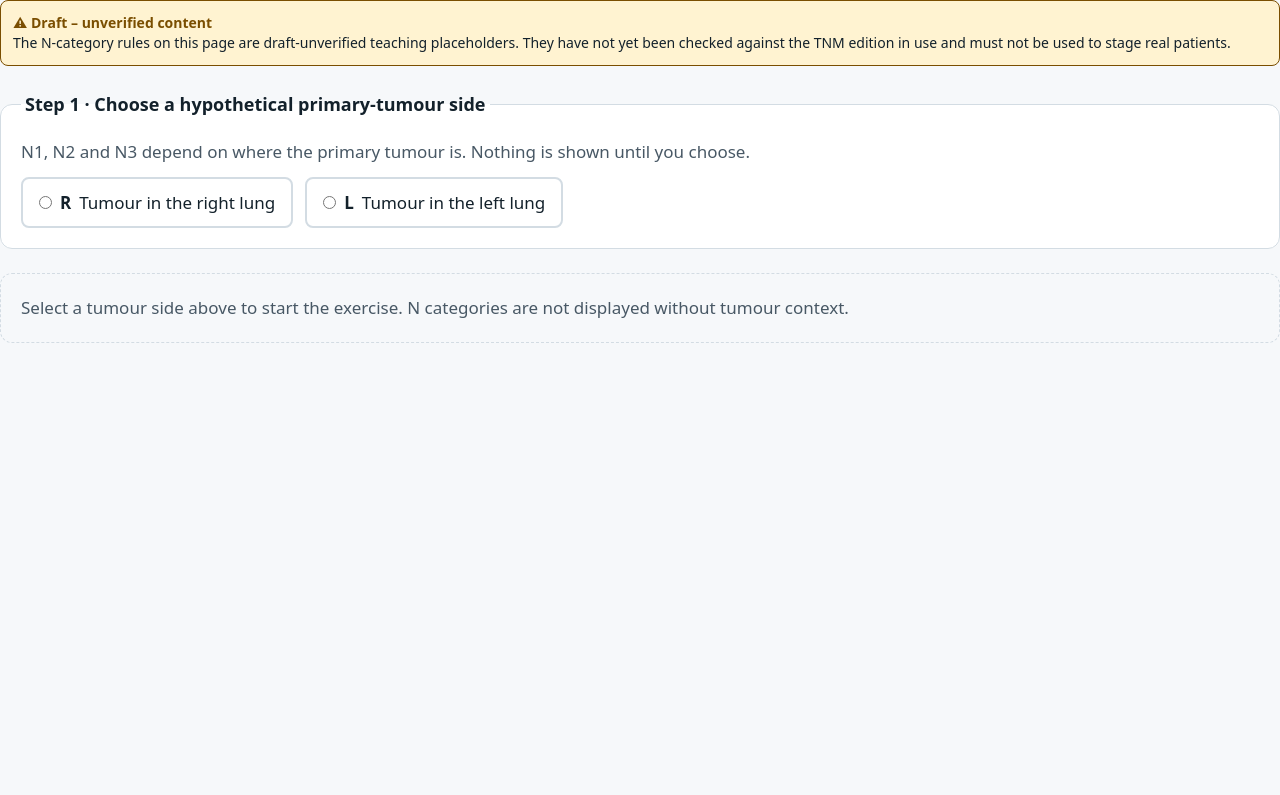
Test: StagingExercise › gives reasoning after an answer
Step 1. Click the radio button labelled "L Tumour in the left lung" → (330, 203), box [323,196,336,209]
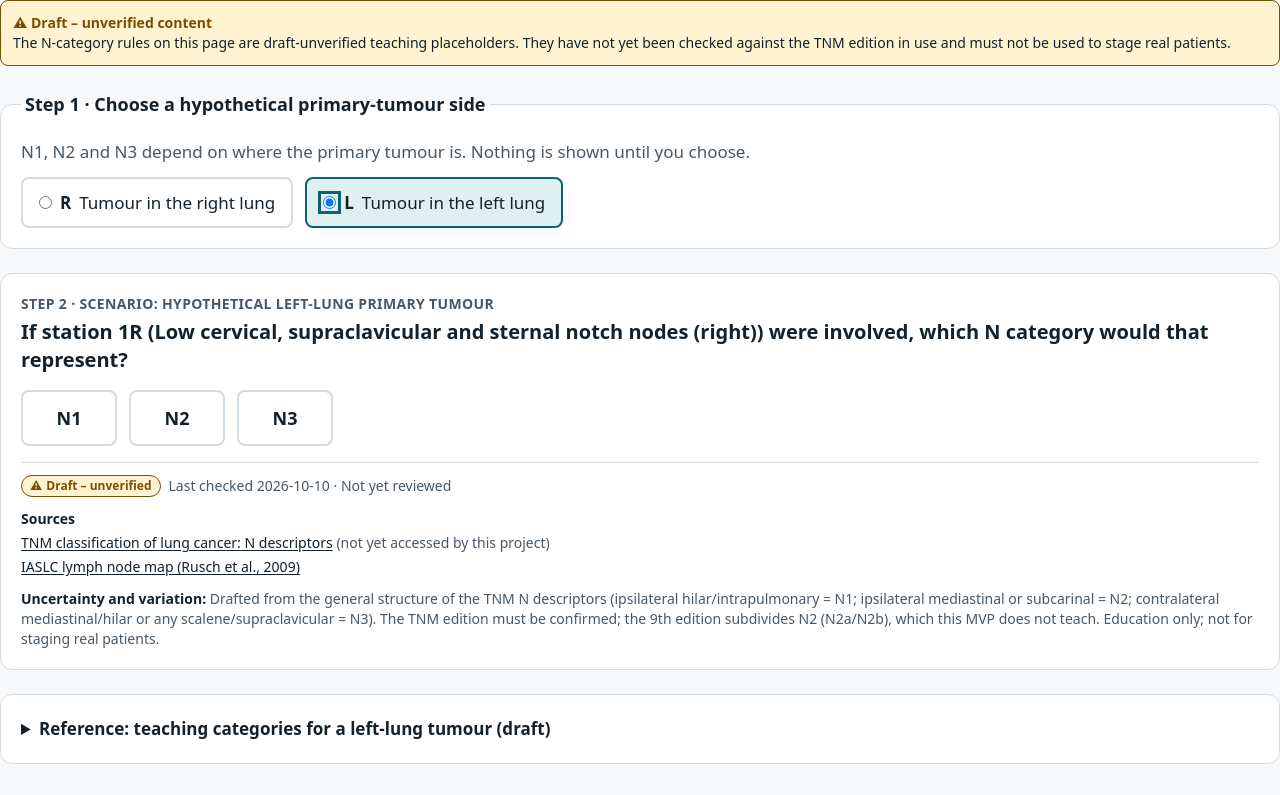
Step 2. Click the button "N3" → (285, 418), box [237,390,333,446]
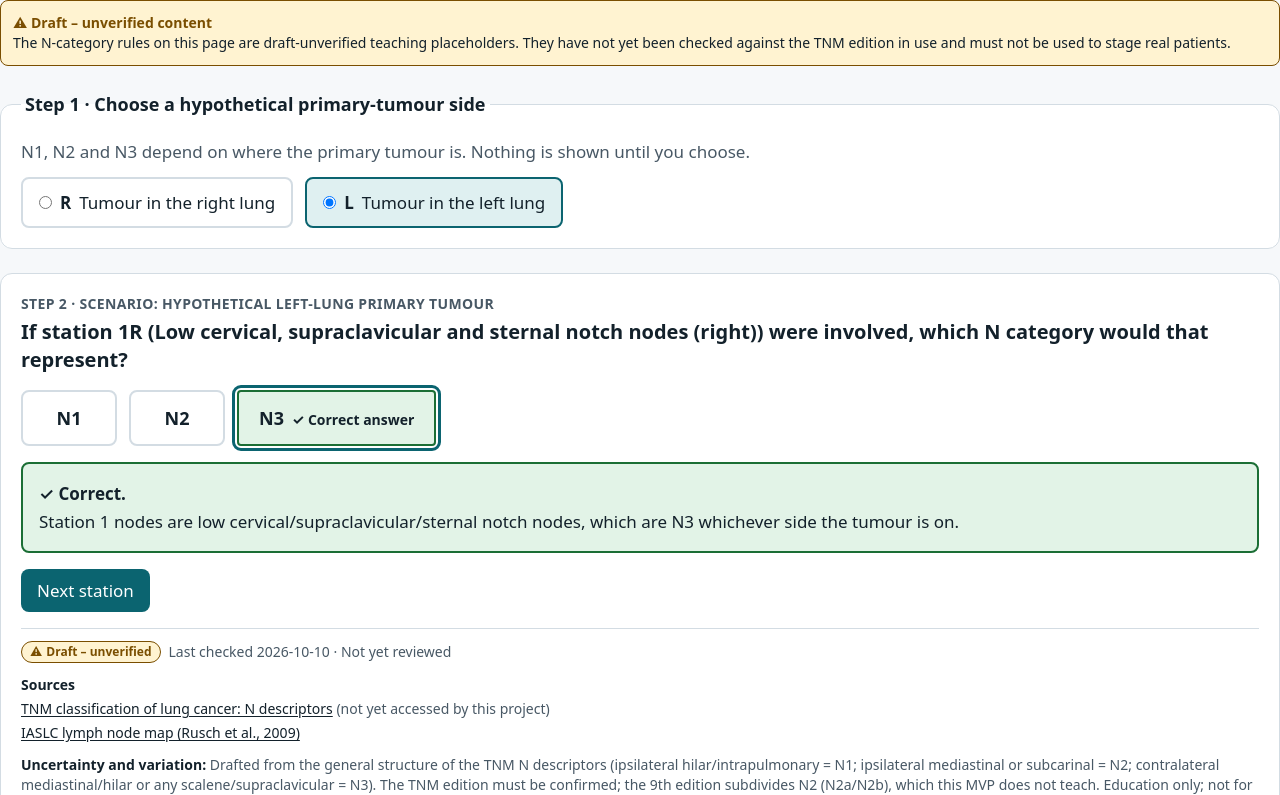
Expected: the text "Station 1 nodes are low cervical" is shown, [39,510,959,533]
